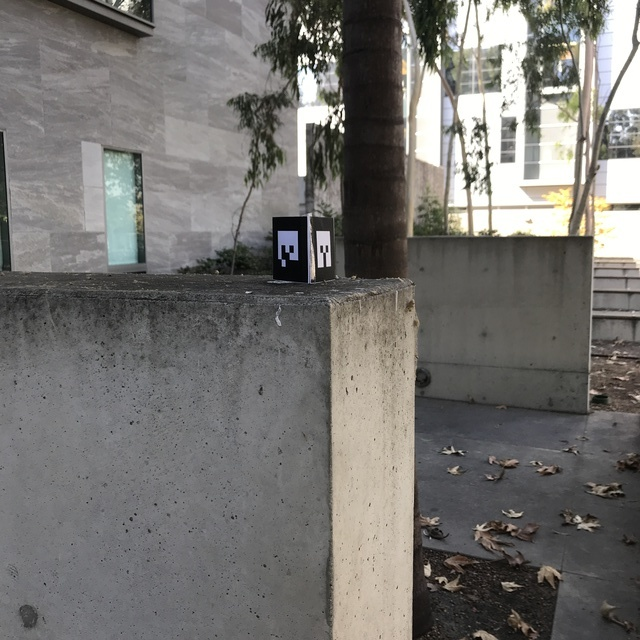ARTag: (271, 215, 337, 283)
